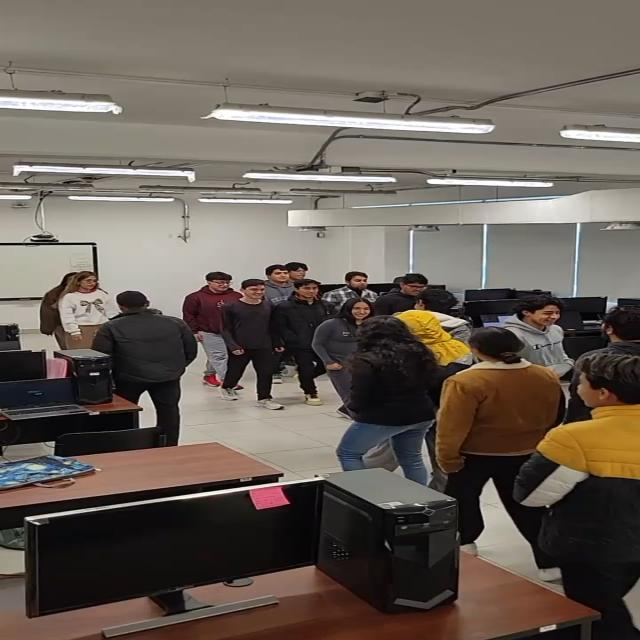Persona: (512, 351, 640, 640), (435, 325, 569, 582), (331, 314, 438, 482), (90, 290, 197, 443), (218, 278, 284, 412), (269, 278, 338, 406), (312, 296, 377, 420), (183, 272, 246, 391), (503, 294, 577, 381), (392, 308, 467, 368), (60, 270, 114, 352), (576, 306, 640, 361), (323, 270, 383, 320), (414, 288, 470, 338), (378, 272, 432, 315), (253, 264, 312, 282)
